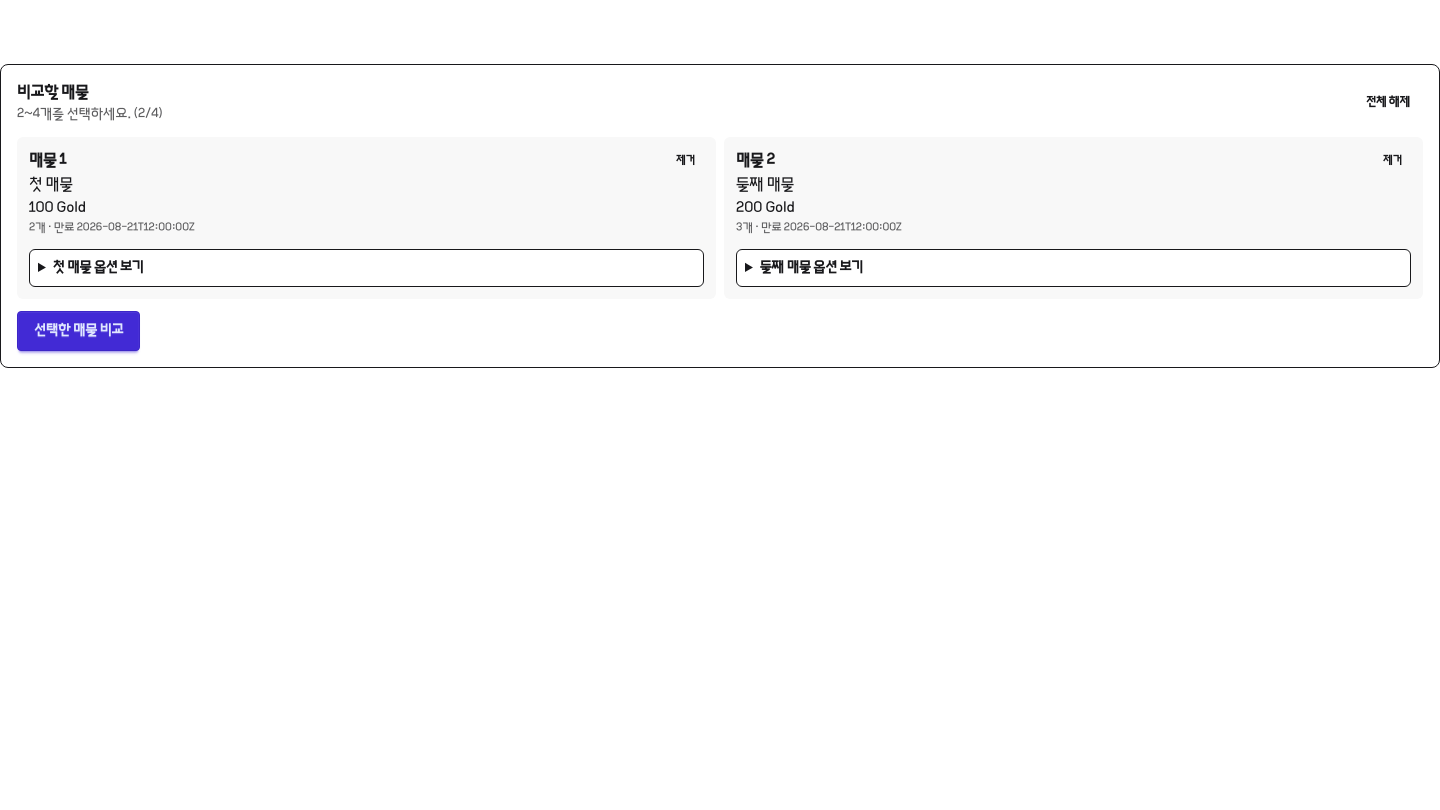
Test: AuctionComparison › renders missing values and restores focus after Escape
The image size is (1440, 810).
Click the heading "첫 매물 옵션 보기": (98, 268) [53,260,144,276]
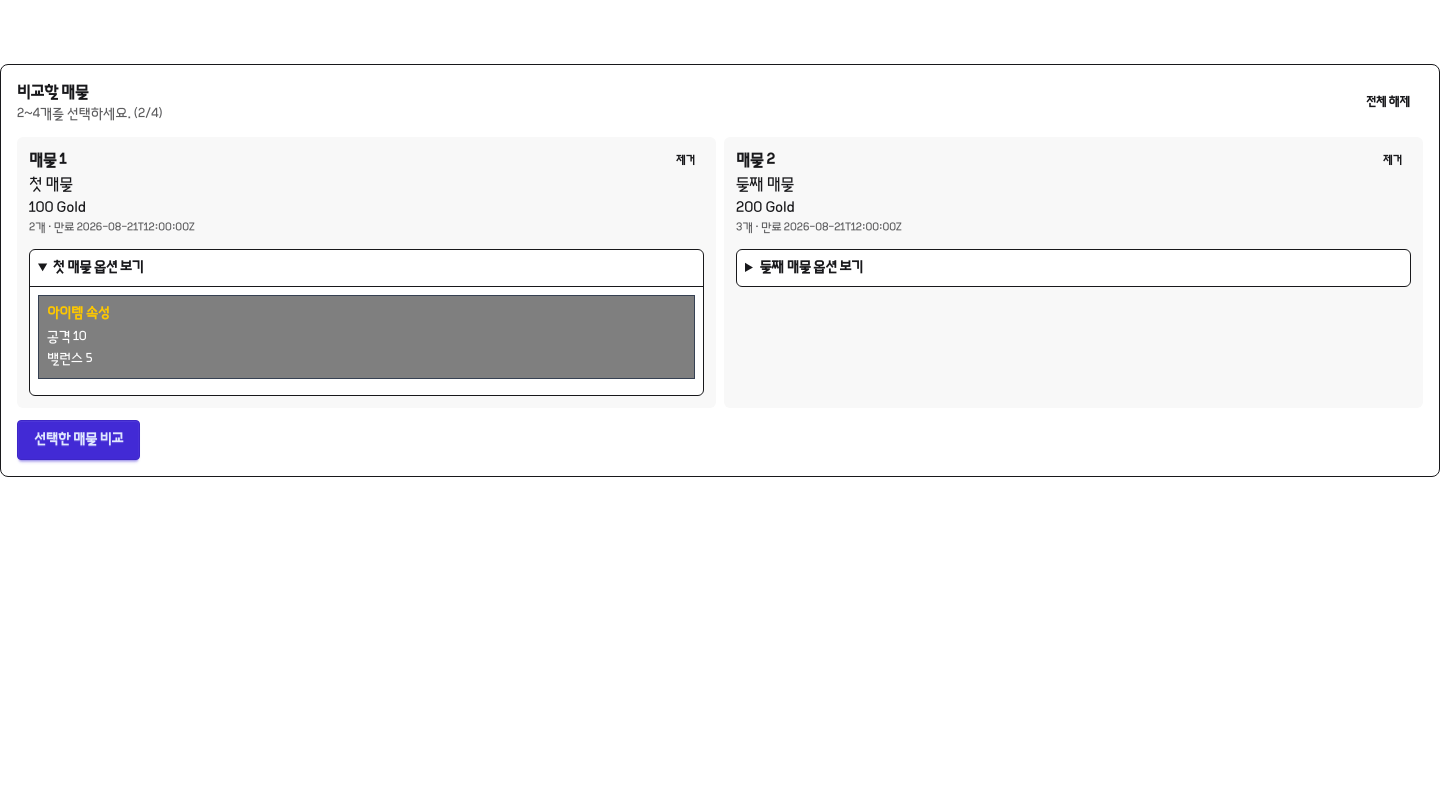
Expected: the text "밸런스 5" is shown, [47,352,92,368]
Click the button "선택한 매물 비교": (79, 440) [17,420,140,460]
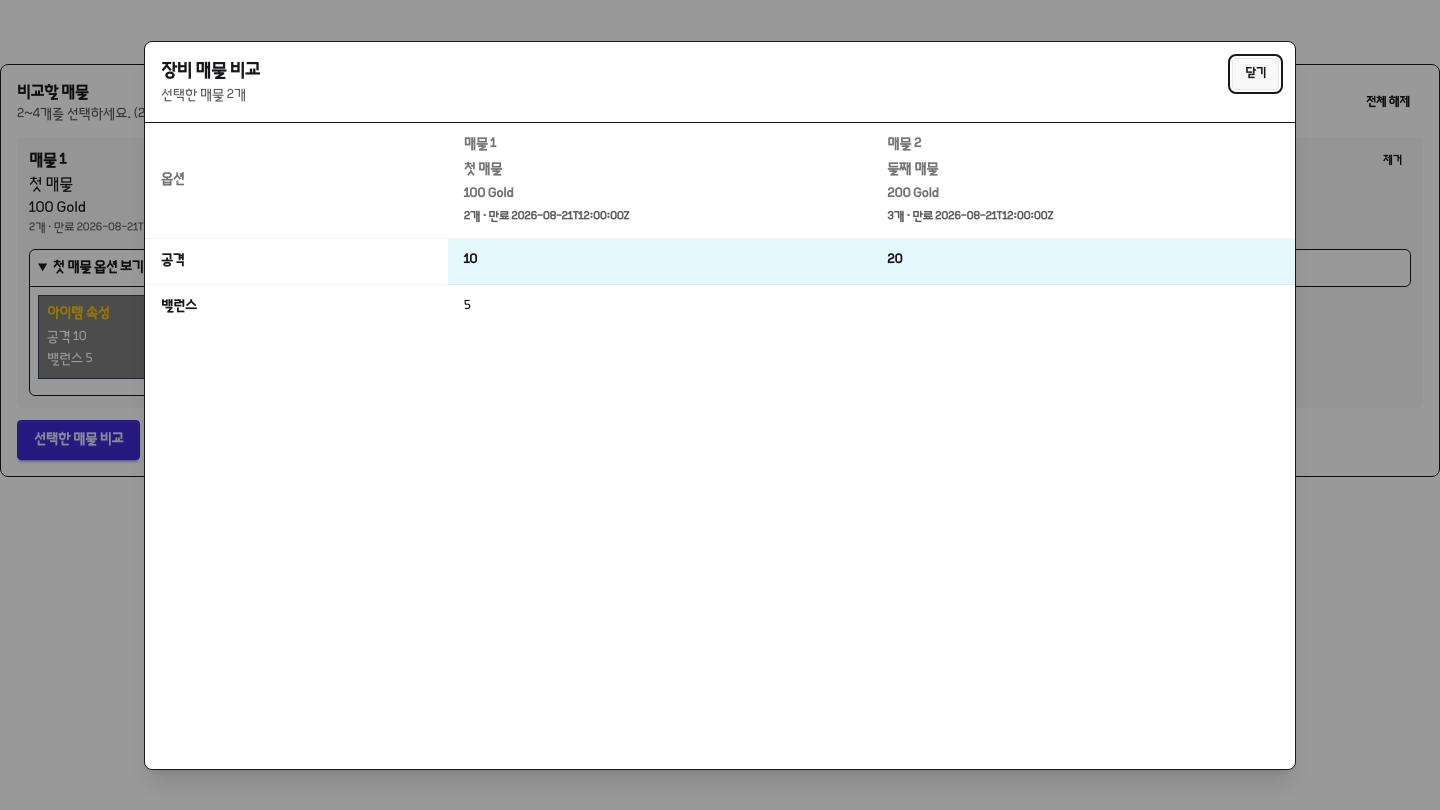
Expected: the text "—" is shown, [871,284,1295,330]
Press Escape
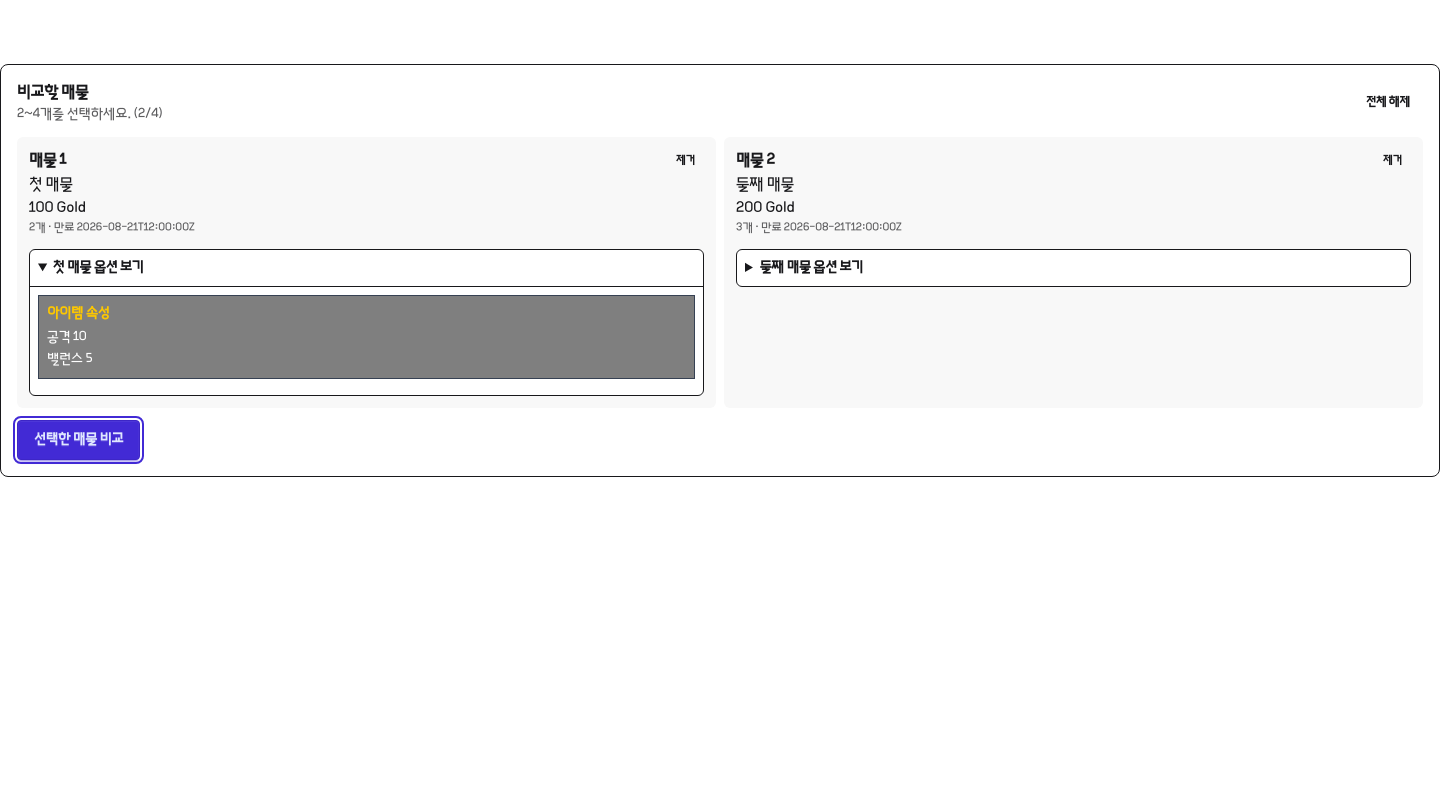
Expected: the dialog is gone
